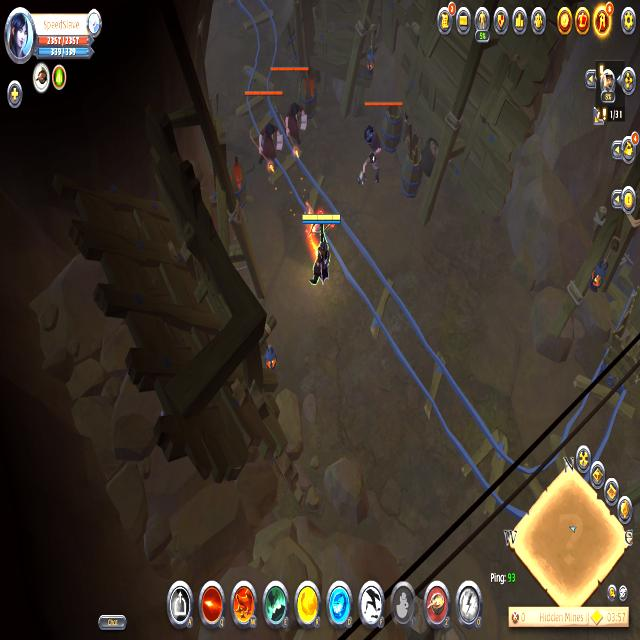ore: (354, 95, 404, 186), (271, 58, 313, 153), (245, 87, 290, 173)
red: (300, 206, 341, 292)
